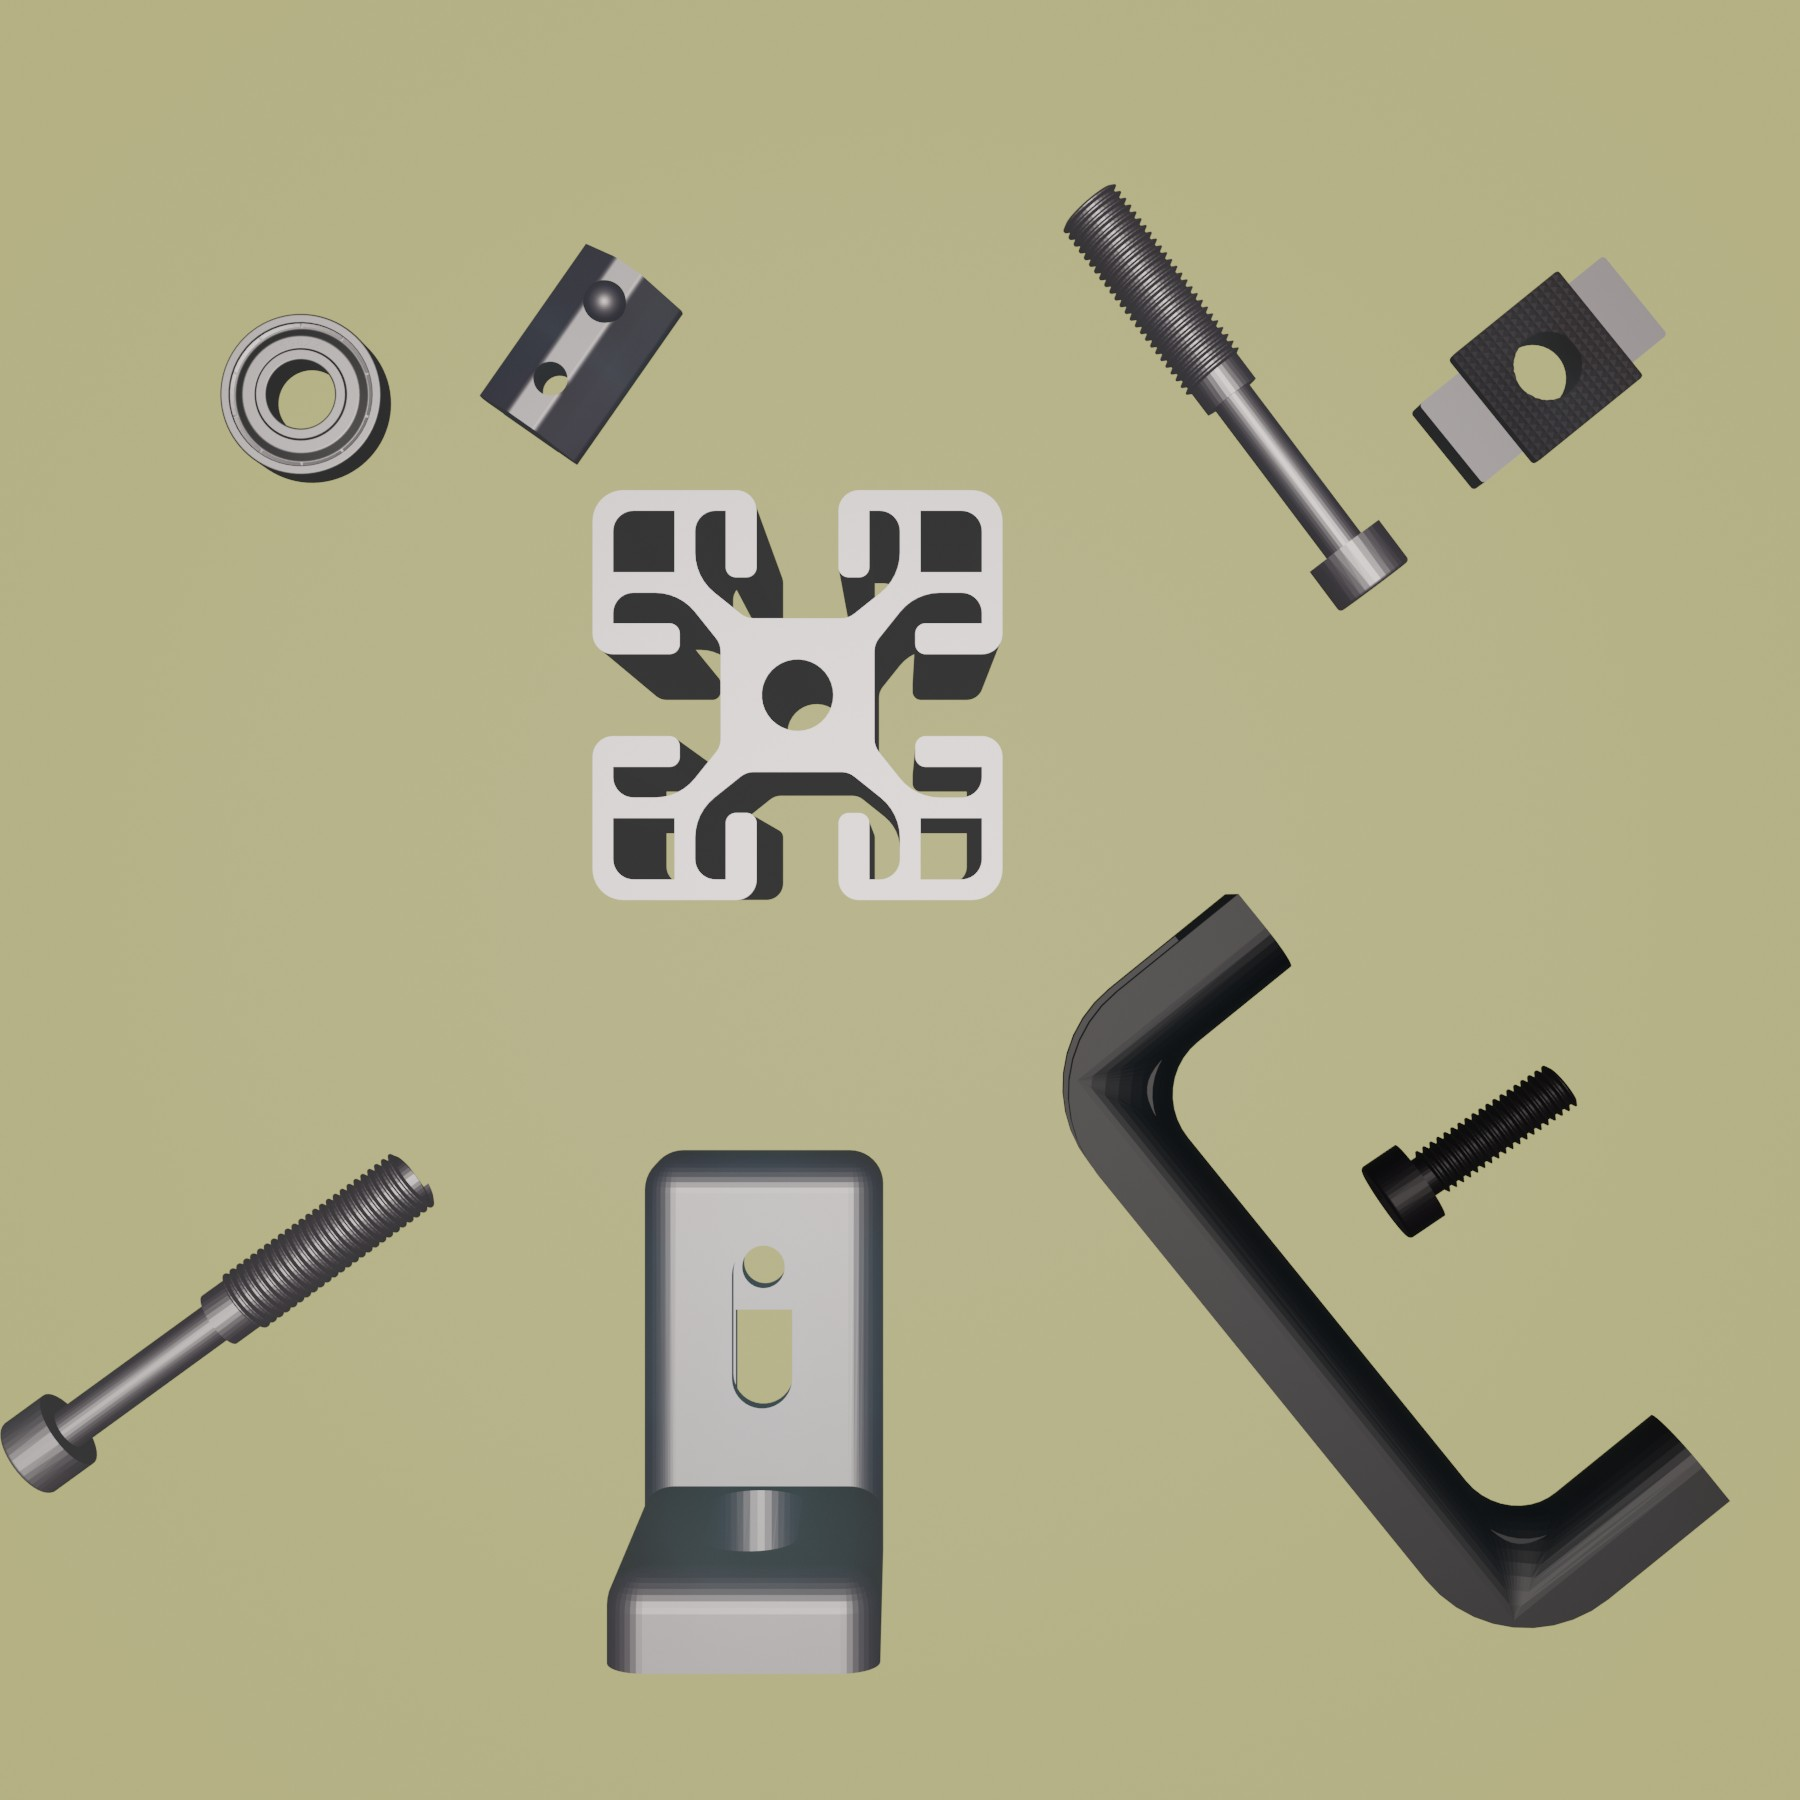Aluminium Extension: (588, 485, 1005, 908)
Ball Bearing: (219, 312, 392, 485)
Multiwinkel: (603, 1146, 888, 1680)
Pull Handle: (1058, 892, 1732, 1630)
Shoulder Socket Head Cap Screw: (2, 1147, 438, 1497), (1058, 181, 1411, 613)
Socket Head Cap Screw: (1358, 1065, 1581, 1241)
T Nut Square: (1411, 251, 1671, 491)
T Spring Nut: (476, 237, 686, 468)
